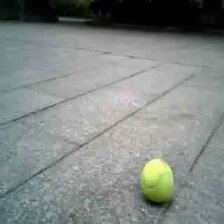tennis: (140, 159, 172, 200)
